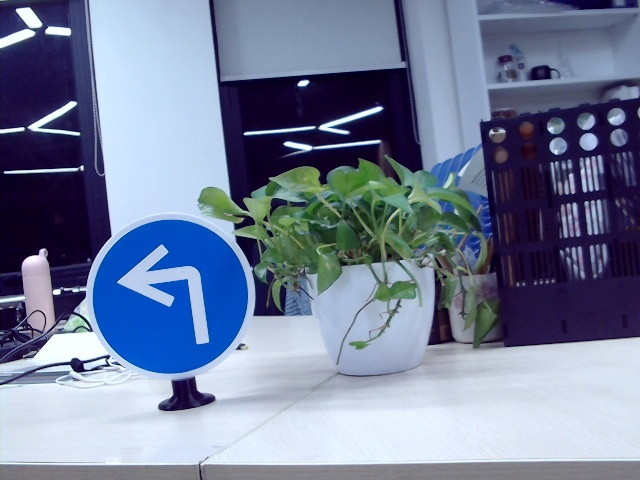turn_left: (115, 239, 213, 346)
